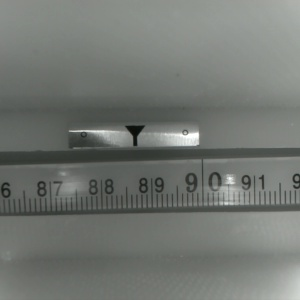0: (207, 172, 222, 191)
1: (258, 174, 264, 189)
6: (0, 182, 11, 198)
7: (52, 180, 62, 196)
8: (36, 181, 47, 197), (103, 178, 113, 194), (87, 179, 97, 195), (137, 177, 147, 193)
9: (184, 172, 198, 192), (153, 177, 163, 193), (241, 175, 251, 190), (292, 173, 300, 189)
finger: (123, 125, 146, 146)
